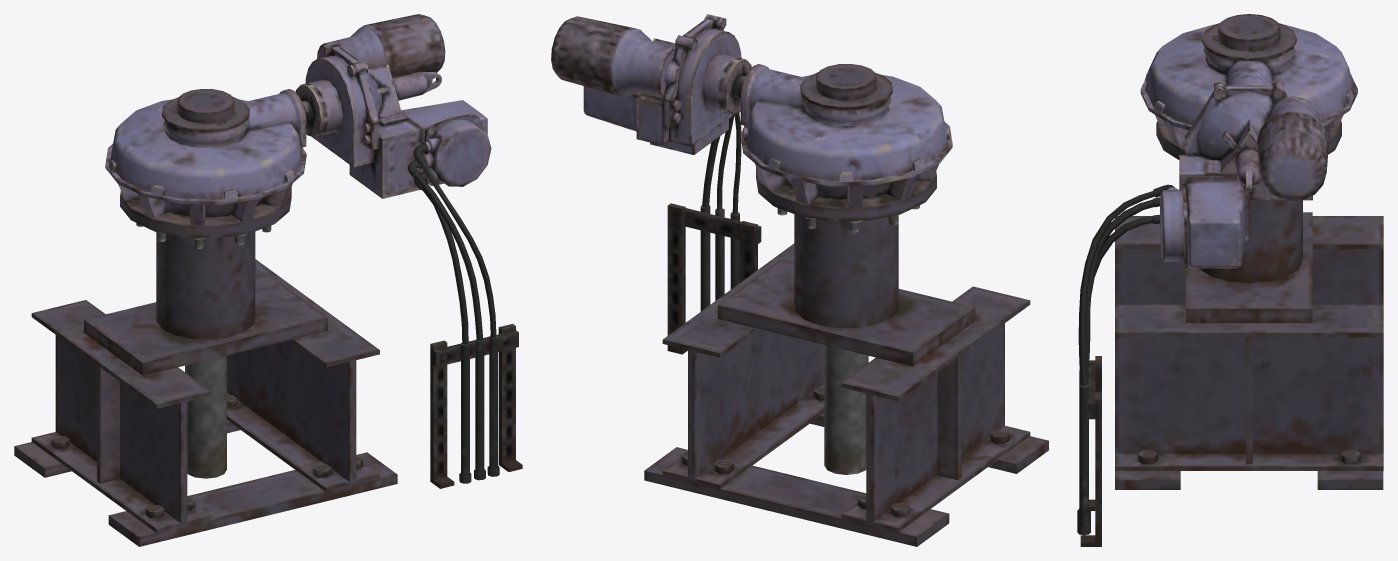
File: sm22_049_groundlocatevalve01a.fbx
The picture shows the model from 3 angles, left to right: view 1: azimuth 30°, elevation 25°; view 2: azimuth 150°, elevation 25°; view 3: azimuth 270°, elevation 25°; orthographic projection. The views are drawn at different scales.
Visible parts, largest first — view 1: LOD_1_Group_0_Sub_1__sm22_049_GroundLocateValve01A_A_Mat; view 2: LOD_1_Group_0_Sub_1__sm22_049_GroundLocateValve01A_A_Mat; view 3: LOD_1_Group_0_Sub_1__sm22_049_GroundLocateValve01A_A_Mat.
Part boxes in pixels (<box>): LOD_1_Group_0_Sub_1__sm22_049_GroundLocateValve01A_A_Mat: <box>14,14,522,546</box>; LOD_1_Group_0_Sub_1__sm22_049_GroundLocateValve01A_A_Mat: <box>551,14,1048,546</box>; LOD_1_Group_0_Sub_1__sm22_049_GroundLocateValve01A_A_Mat: <box>1077,14,1383,546</box>.
Size of the model in its own units: 1.01 by 0.9582 by 0.6475.
